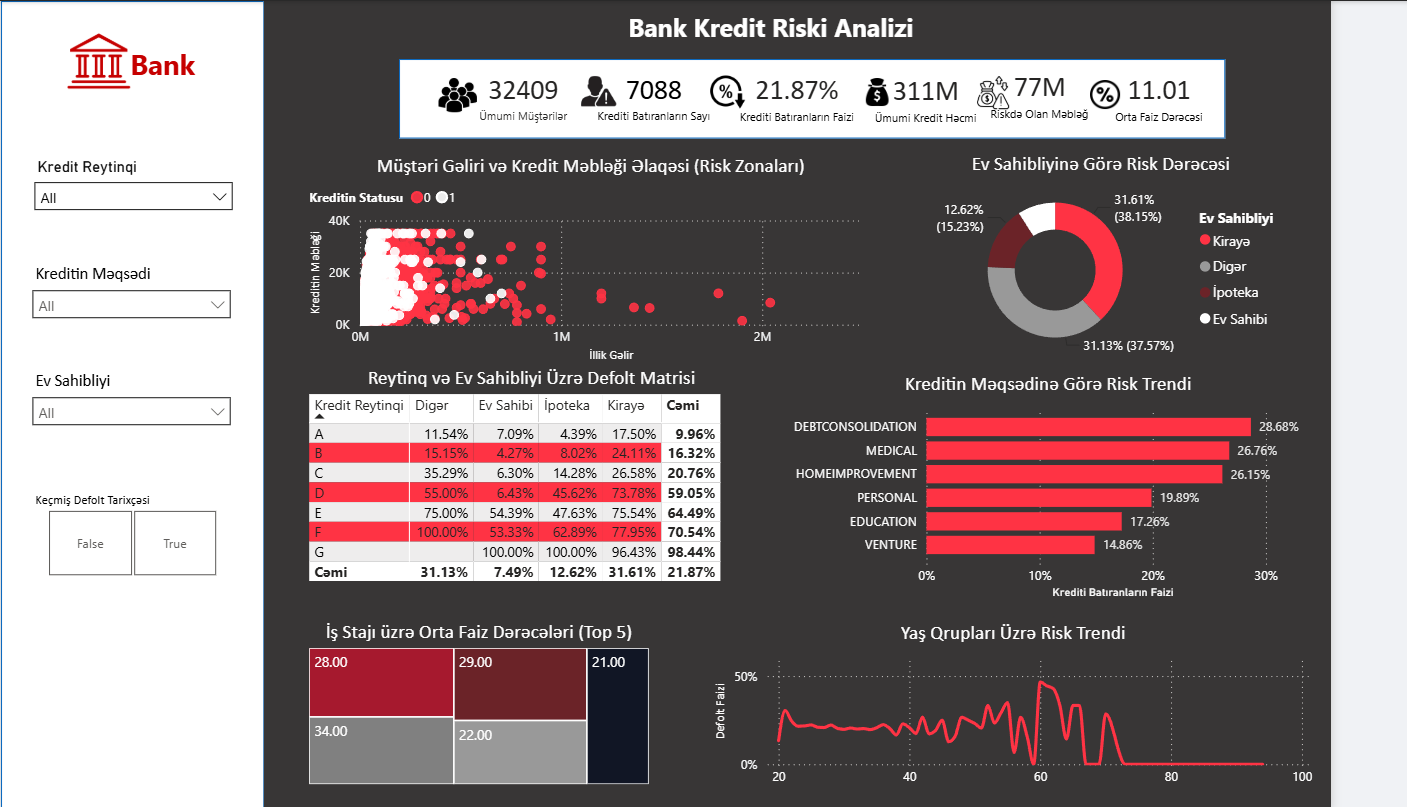

The page's visual inventory and layout, read from the dashboard file:
{"tool":"powerbi","page":{"name":"Page 1","canvas":[1280,780],"ordinal":0},"visuals":[{"type":"shape","box":[383.1,56,795.7,76.6],"z":0},{"type":"shape","box":[0,0,253.4,780],"z":1000},{"type":"donutChart","title":"Ev Sahibliyinə Görə Risk Dərəcəsi","fields":{"Category":["Query.person_home_ownership"],"Y":["_Measures.Default Rate"]},"box":[871.3,144.4,375.3,206.3],"z":2000},{"type":"clusteredBarChart","title":"Kreditin Məqsədinə Görə Risk Trendi","fields":{"Category":["Query.loan_intent"],"Y":["_Measures.Default Rate"]},"box":[749.1,356.2,518.4,224],"z":3000},{"type":"slicer","fields":{"Values":["Query.loan_grade"]},"box":[22.6,146.4,211.2,89.4],"z":4000},{"type":"lineChart","title":"Yaş Qrupları Üzrə Risk Trendi","fields":{"Category":["Query.person_age"],"Y":["_Measures.Default Rate"]},"box":[681.5,595.6,585.9,168.9],"z":5000},{"type":"slicer","title":"Kreditin Məqsədi","fields":{"Values":["Query.loan_intent"]},"box":[20.6,247.6,211.2,78.6],"z":6000},{"type":"slicer","fields":{"Values":["Query.person_home_ownership"]},"box":[20.6,350.7,211.2,80.6],"z":7000},{"type":"slicer","fields":{"Values":["Query.cb_person_default_on_file"]},"box":[20.6,467.6,211.2,92.3],"z":8000},{"type":"pivotTable","title":"Reytinq və Ev Sahibliyi Üzrə Defolt Matrisi","fields":{"Rows":["Query.loan_grade"],"Columns":["Query.person_home_ownership"],"Values":["_Measures.Krediti Batıranların Faizi"]},"box":[291.8,350.7,438.1,225.9],"z":9000},{"type":"scatterChart","title":"Müştəri Gəliri və Kredit Məbləği Əlaqəsi (Risk Zonaları)","fields":{"X":["Query.person_income"],"Y":["Query.loan_amnt"],"Series":["Query.loan_status"]},"box":[291.8,146.4,552.1,206.3],"z":10000},{"type":"treemap","title":"İş Stajı üzrə Orta Faiz Dərəcələri (Top 5)","fields":{"Group":["Query.person_emp_length"],"Values":["_Measures.Orta_Faiz_Derecesi"]},"box":[291.8,595.3,336.9,164.1],"z":11000},{"type":"cardVisual","fields":{"Data":["_Measures.Ümumi Müştərilər"]},"box":[430.3,52.1,145.4,83.5],"z":12000},{"type":"cardVisual","fields":{"Data":["_Measures.Krediti Batıranların Sayı"]},"box":[543.2,52.1,171.9,83.5],"z":13000},{"type":"cardVisual","fields":{"Data":["_Measures.Krediti Batıranların Faizi"]},"box":[679.8,47.2,173.9,93.3],"z":14000},{"type":"cardVisual","fields":{"Data":["_Measures.Umumi_Kredit_Portfeli"]},"box":[806.5,50.1,168,88.4],"z":15000},{"type":"cardVisual","fields":{"Data":["_Measures.Riskde_Olan_Mebleg"]},"box":[921.4,39.3,157.2,102.2],"z":16000},{"type":"cardVisual","fields":{"Data":["_Measures.Orta_Faiz_Derecesi"]},"box":[1038.3,43.2,154.2,101.2],"z":17000},{"type":"textbox","box":[599.2,3.9,300.6,46.2],"z":18000},{"type":"image","box":[408.7,73.7,62.9,33.4],"z":19000},{"type":"image","box":[543.2,64.8,64.8,48.1],"z":20000},{"type":"image","box":[669,65.8,60.9,48.1],"z":21000},{"type":"image","box":[826.2,73.7,35.4,26.5],"z":22000},{"type":"image","box":[937.2,72.7,37.3,32.4],"z":23000},{"type":"image","box":[1049.1,75.6,29.5,28.5],"z":24000},{"type":"textbox","box":[119.8,37.3,95.3,52.1],"z":25000},{"type":"image","box":[33.4,25.5,120.8,62.9],"z":26000}]}

Visuals, with their boxes on the page's 1280x780 design canvas (x1, y1, x2, y2). These are canvas units, not pixel positions in the 1407x807 screenshot, which may show the page scaled, cropped or inside an application window:
shape: [left=383, top=56, right=1179, bottom=133]
shape: [left=0, top=0, right=253, bottom=780]
"Ev Sahibliyinə Görə Risk Dərəcəsi" donutChart: [left=871, top=144, right=1247, bottom=351]
"Kreditin Məqsədinə Görə Risk Trendi" clusteredBarChart: [left=749, top=356, right=1268, bottom=580]
slicer - Query.loan_grade: [left=23, top=146, right=234, bottom=236]
"Yaş Qrupları Üzrə Risk Trendi" lineChart: [left=682, top=596, right=1267, bottom=764]
"Kreditin Məqsədi" slicer: [left=21, top=248, right=232, bottom=326]
slicer - Query.person_home_ownership: [left=21, top=351, right=232, bottom=431]
slicer - Query.cb_person_default_on_file: [left=21, top=468, right=232, bottom=560]
"Reytinq və Ev Sahibliyi Üzrə Defolt Matrisi" pivotTable: [left=292, top=351, right=730, bottom=577]
"Müştəri Gəliri və Kredit Məbləği Əlaqəsi (Risk Zonaları)" scatterChart: [left=292, top=146, right=844, bottom=353]
"İş Stajı üzrə Orta Faiz Dərəcələri (Top 5)" treemap: [left=292, top=595, right=629, bottom=759]
cardVisual - _Measures.Ümumi Müştərilər: [left=430, top=52, right=576, bottom=136]
cardVisual - _Measures.Krediti Batıranların Sayı: [left=543, top=52, right=715, bottom=136]
cardVisual - _Measures.Krediti Batıranların Faizi: [left=680, top=47, right=854, bottom=140]
cardVisual - _Measures.Umumi_Kredit_Portfeli: [left=806, top=50, right=974, bottom=138]
cardVisual - _Measures.Riskde_Olan_Mebleg: [left=921, top=39, right=1079, bottom=142]
cardVisual - _Measures.Orta_Faiz_Derecesi: [left=1038, top=43, right=1192, bottom=144]
textbox: [left=599, top=4, right=900, bottom=50]
image: [left=409, top=74, right=472, bottom=107]
image: [left=543, top=65, right=608, bottom=113]
image: [left=669, top=66, right=730, bottom=114]
image: [left=826, top=74, right=862, bottom=100]
image: [left=937, top=73, right=974, bottom=105]
image: [left=1049, top=76, right=1079, bottom=104]
textbox: [left=120, top=37, right=215, bottom=89]
image: [left=33, top=26, right=154, bottom=88]
